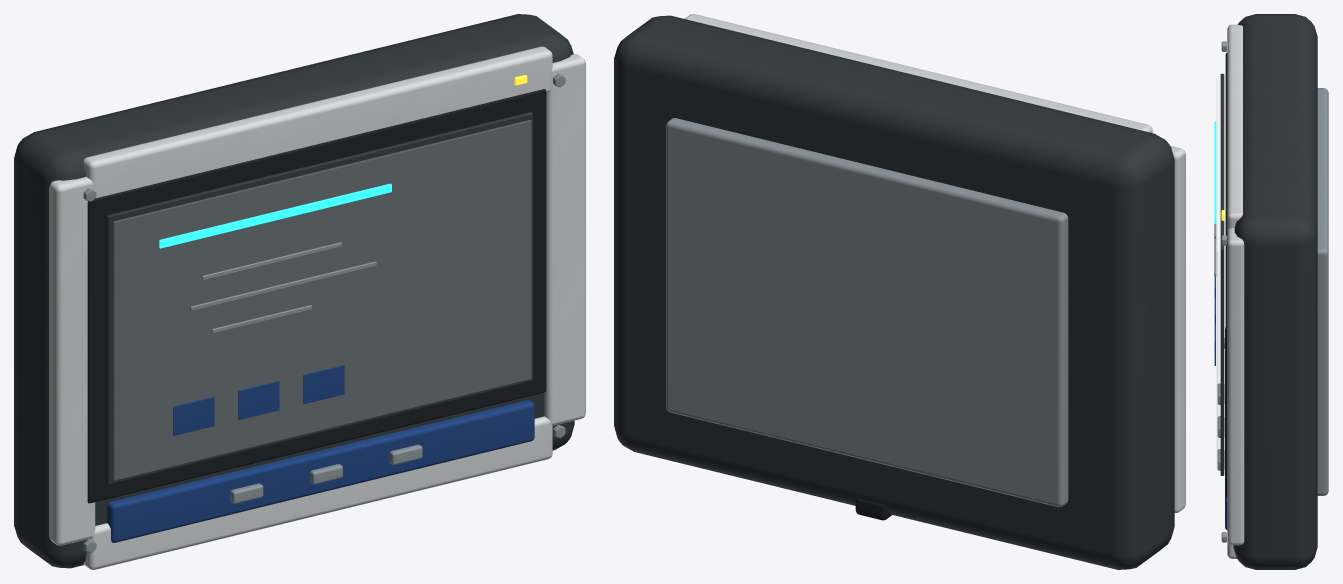
Rendered from 14_wall_control_terminal.gltf.
3 renders of one model, left to right at view 1: azimuth 30°, elevation 25°; view 2: azimuth 150°, elevation 25°; view 3: azimuth 270°, elevation 25°, orthographic. The views are drawn at different scales.
Visible parts, largest first — view 1: 14_Cryo_Anodized_Frame, 14_Cryo_Clear_Inspection_Glass, 14_Cryo_Ceramic_Enamel, 14_Cryo_EPDM_Gasket, 14_Cryo_Cobalt_Enamel, 14_Cryo_Brushed_Steel, 14_Cryo_Cyan_Practical; view 2: 14_Cryo_Anodized_Frame, 14_Cryo_Brushed_Steel, 14_Cryo_Ceramic_Enamel; view 3: 14_Cryo_Anodized_Frame, 14_Cryo_Ceramic_Enamel, 14_Cryo_Brushed_Steel, 14_Cryo_EPDM_Gasket, 14_Cryo_Clear_Inspection_Glass, 14_Cryo_Cobalt_Enamel, 14_Cryo_Cyan_Practical.
Boxes of the visible parts, box(x1,y1,x2,y2) form: 14_Cryo_Anodized_Frame: box(14, 14, 574, 568); 14_Cryo_Clear_Inspection_Glass: box(113, 120, 531, 480); 14_Cryo_Ceramic_Enamel: box(49, 46, 585, 569); 14_Cryo_EPDM_Gasket: box(87, 89, 546, 503); 14_Cryo_Cobalt_Enamel: box(107, 365, 534, 542); 14_Cryo_Brushed_Steel: box(83, 73, 565, 552); 14_Cryo_Cyan_Practical: box(159, 183, 391, 248); 14_Cryo_Anodized_Frame: box(614, 15, 1174, 569); 14_Cryo_Brushed_Steel: box(666, 118, 1068, 507); 14_Cryo_Ceramic_Enamel: box(685, 14, 1185, 512); 14_Cryo_Anodized_Frame: box(1220, 14, 1317, 569); 14_Cryo_Ceramic_Enamel: box(1227, 24, 1244, 558); 14_Cryo_Brushed_Steel: box(1214, 41, 1328, 542); 14_Cryo_EPDM_Gasket: box(1225, 53, 1227, 496); 14_Cryo_Clear_Inspection_Glass: box(1217, 79, 1218, 469); 14_Cryo_Cobalt_Enamel: box(1214, 277, 1227, 530); 14_Cryo_Cyan_Practical: box(1214, 121, 1216, 223).
Bounding box in the file's own units: 0.8 × 0.6 × 0.1765.
Materials: 8 (5 with a texture image).
